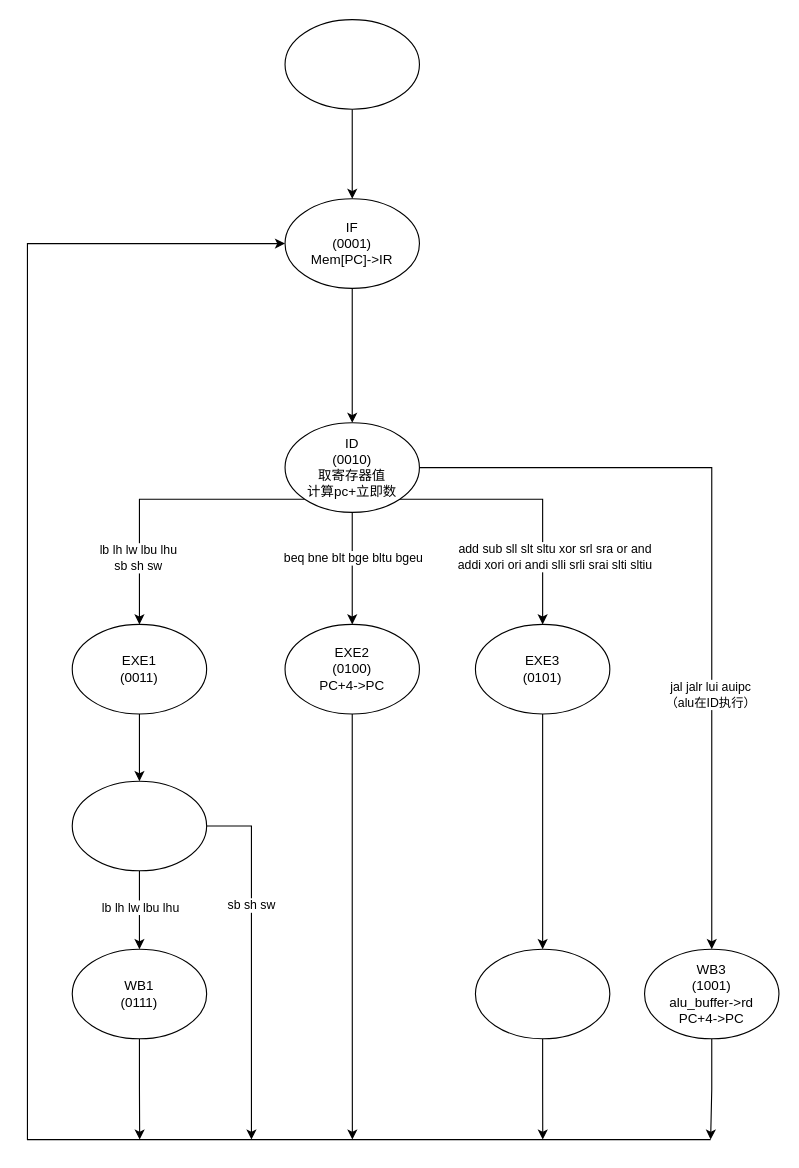
Image size: 799x1168. Some labels were removed from this diagram. The shapes that lost their labels are listed below. From the top down, each one's centre as x and y in pixels, then its label:
At pixel 351 63: "IDLE (0000)".
At pixel 139 825: "MEM (0110) PC+4->PC".
At pixel 542 993: "WB2 (1000) PC+4->PC".
